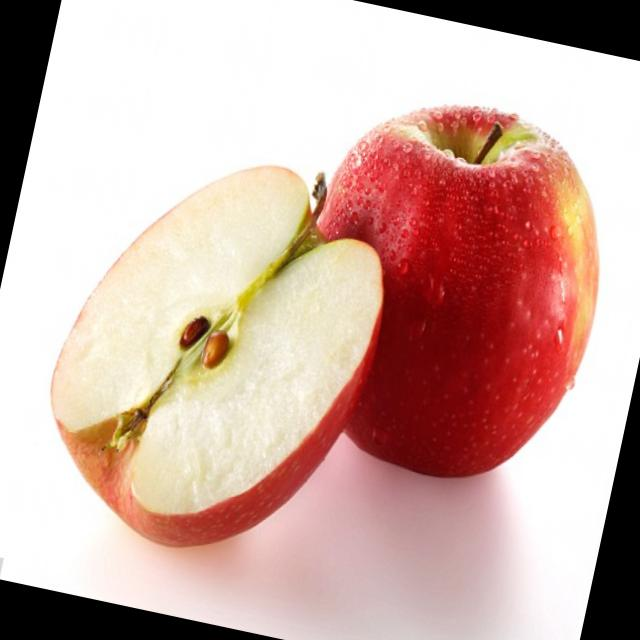apple: (264, 72, 638, 512)
